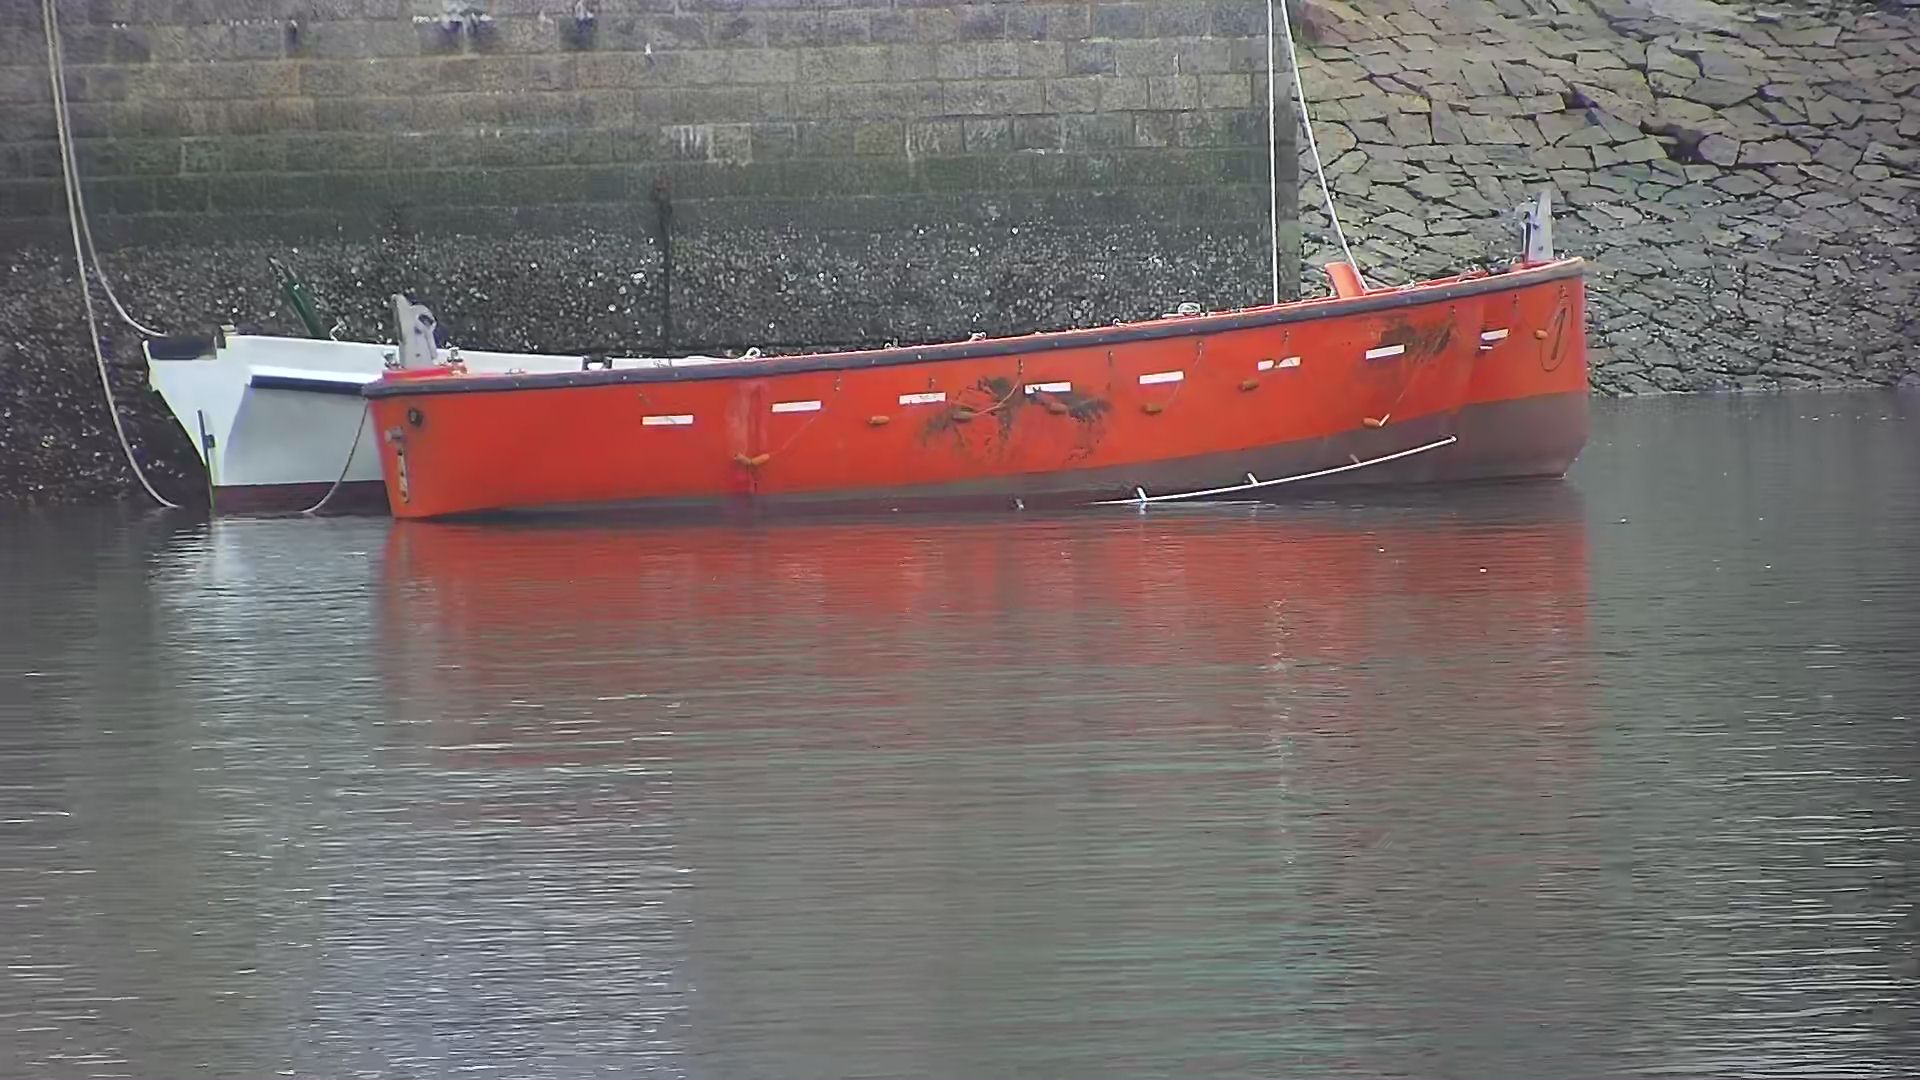boat: (368, 258, 1590, 520)
